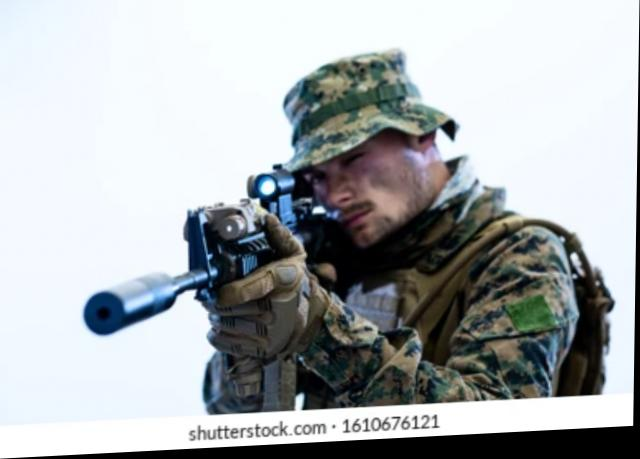other: (203, 45, 614, 420)
